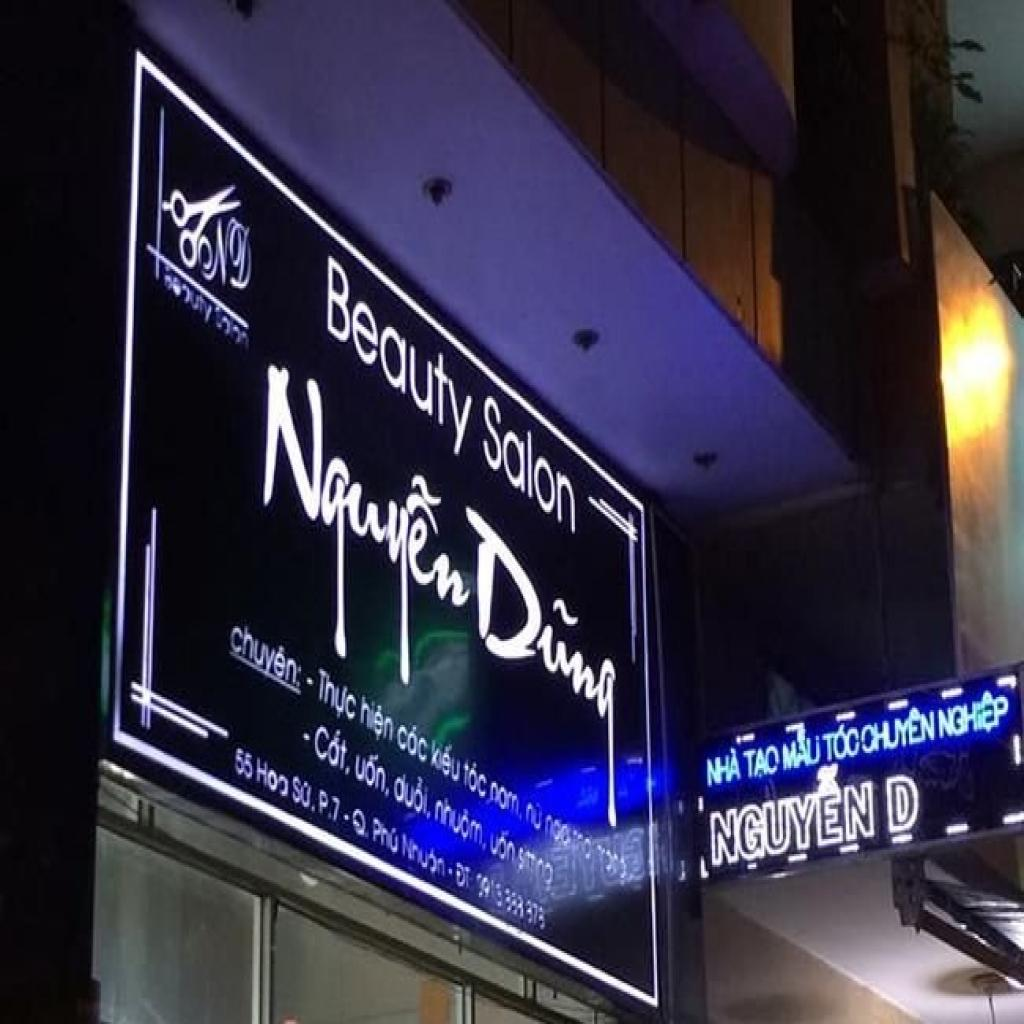text: (257, 340, 476, 721), (462, 501, 619, 837), (326, 256, 481, 458), (708, 753, 878, 867), (480, 391, 580, 538), (228, 620, 306, 697), (184, 217, 262, 293), (476, 871, 546, 936), (858, 704, 938, 758), (939, 686, 1011, 744), (432, 790, 492, 858), (164, 265, 214, 327), (315, 665, 359, 731), (312, 712, 353, 781), (392, 764, 435, 826), (404, 832, 448, 886), (354, 744, 390, 802), (780, 725, 822, 774), (360, 695, 396, 751), (819, 721, 862, 766), (398, 714, 432, 768), (430, 736, 463, 785), (257, 755, 290, 803), (706, 746, 742, 788), (742, 744, 781, 781), (462, 755, 490, 805), (490, 820, 518, 869), (490, 779, 521, 822), (372, 816, 402, 858), (292, 772, 316, 811), (317, 787, 342, 824), (350, 805, 372, 841), (524, 798, 544, 837), (235, 744, 255, 783), (454, 860, 474, 895)
